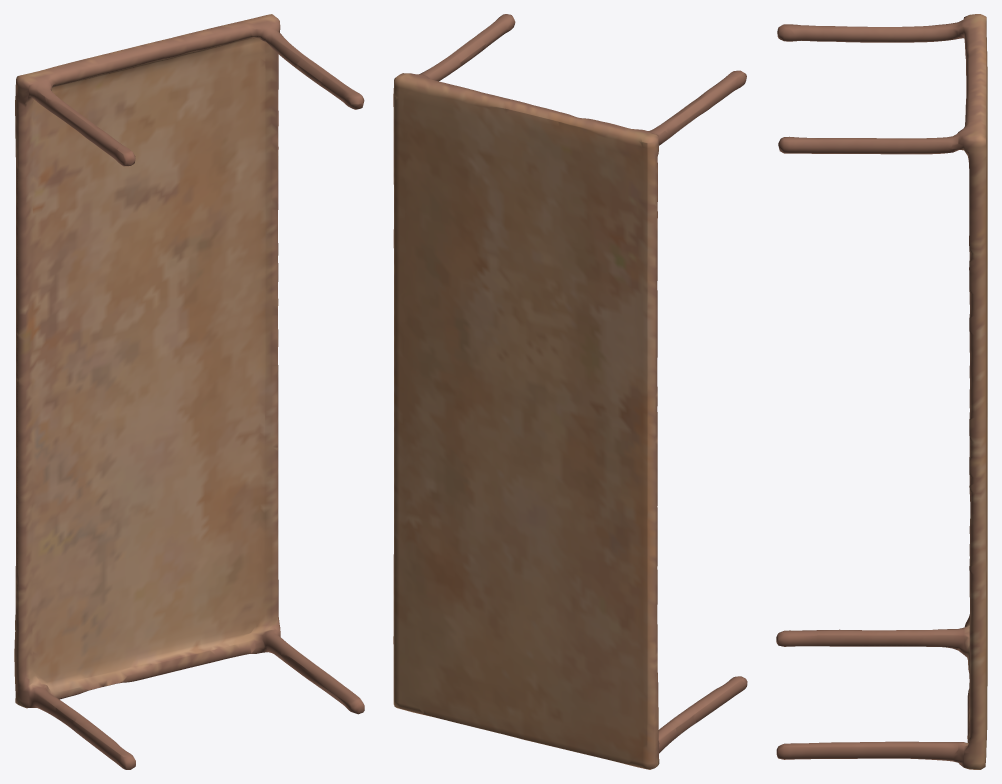
File: Rectangular wooden table with two legs, dark brown.glb
The picture shows the model from 3 angles, left to right: view 1: azimuth 30°, elevation 25°; view 2: azimuth 150°, elevation 25°; view 3: azimuth 270°, elevation 25°; orthographic projection.
Visible parts, largest first — view 1: Rectangular wooden table with two legs, dark brown; view 2: Rectangular wooden table with two legs, dark brown; view 3: Rectangular wooden table with two legs, dark brown.
Boxes of the visible parts, <box> form: Rectangular wooden table with two legs, dark brown: <box>14,14,364,769</box>; Rectangular wooden table with two legs, dark brown: <box>393,14,747,769</box>; Rectangular wooden table with two legs, dark brown: <box>776,14,987,769</box>.
Bounding box in the file's own units: 0.433 × 0.9998 × 0.3026.
